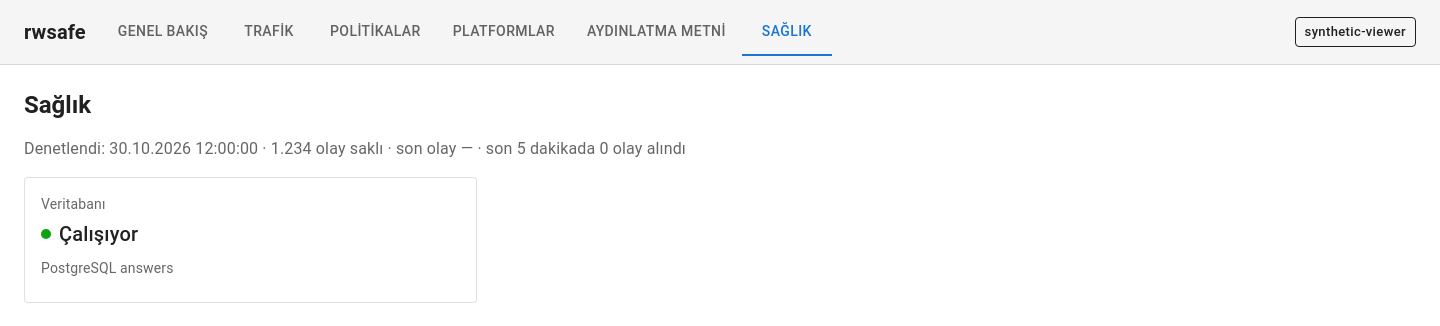
Test case: app › still works when the browser refuses storage
Expected: the heading "Sağlık" is shown, [24, 91, 91, 119]
Click the button with aria-label "Kullanıcı menüsü": {"x": 1355, "y": 32} [1295, 17, 1416, 47]
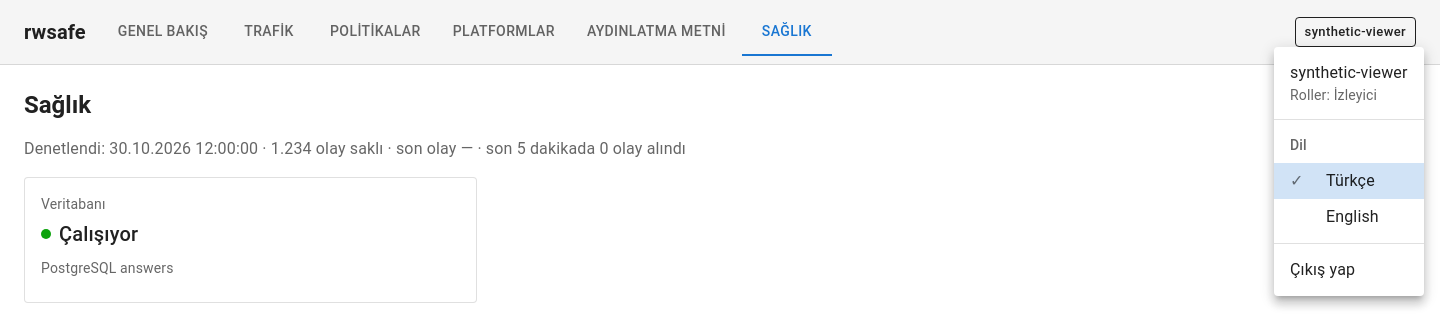
Click the menu item "English": {"x": 1352, "y": 216} [1326, 207, 1379, 226]
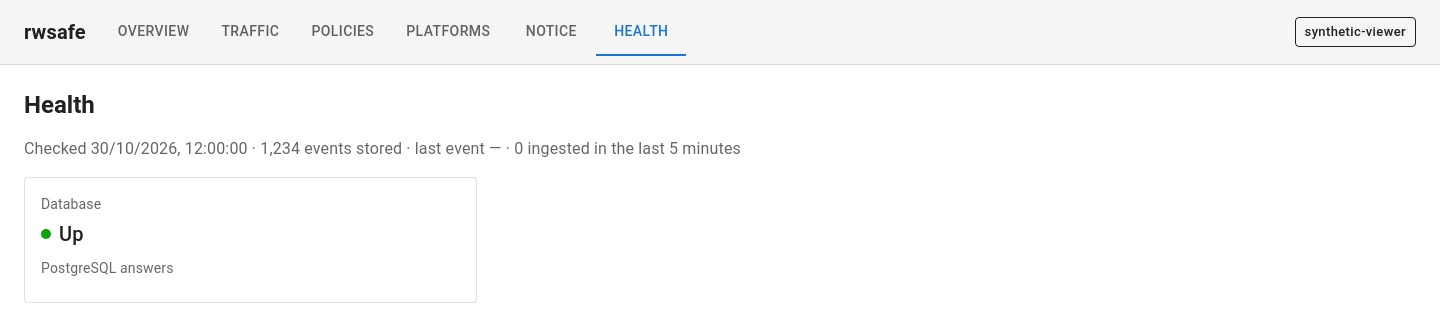
Result: the heading "Health" is shown at [24, 91, 95, 119]
